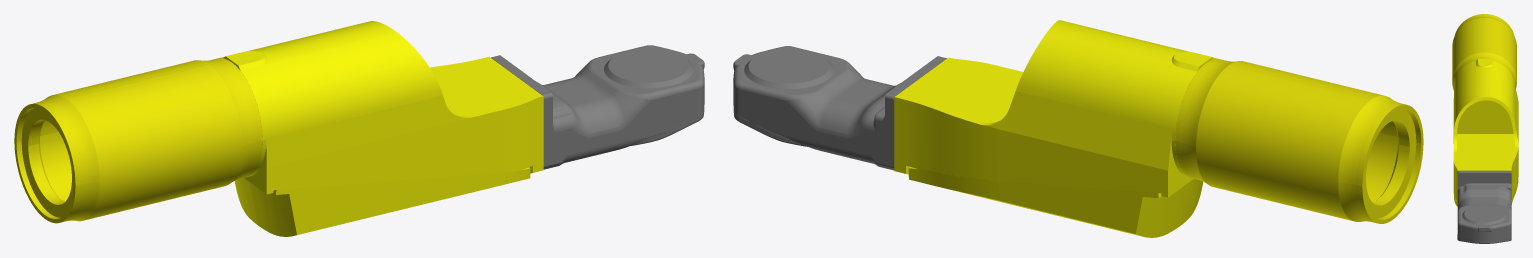
3 renders of one model, left to right at view 1: azimuth 30°, elevation 25°; view 2: azimuth 150°, elevation 25°; view 3: azimuth 270°, elevation 25°, orthographic. The views are drawn at different scales.
Parts seen in each view (by area): view 1: Mesh_0; view 2: Mesh_0; view 3: Mesh_0.
Part boxes in pixels (box(x1,y1,x2,y2)): Mesh_0: box(14, 21, 704, 236); Mesh_0: box(733, 20, 1423, 237); Mesh_0: box(1452, 14, 1518, 243).
Size of the model in its own units: 0.6973 by 0.1758 by 0.1227.
